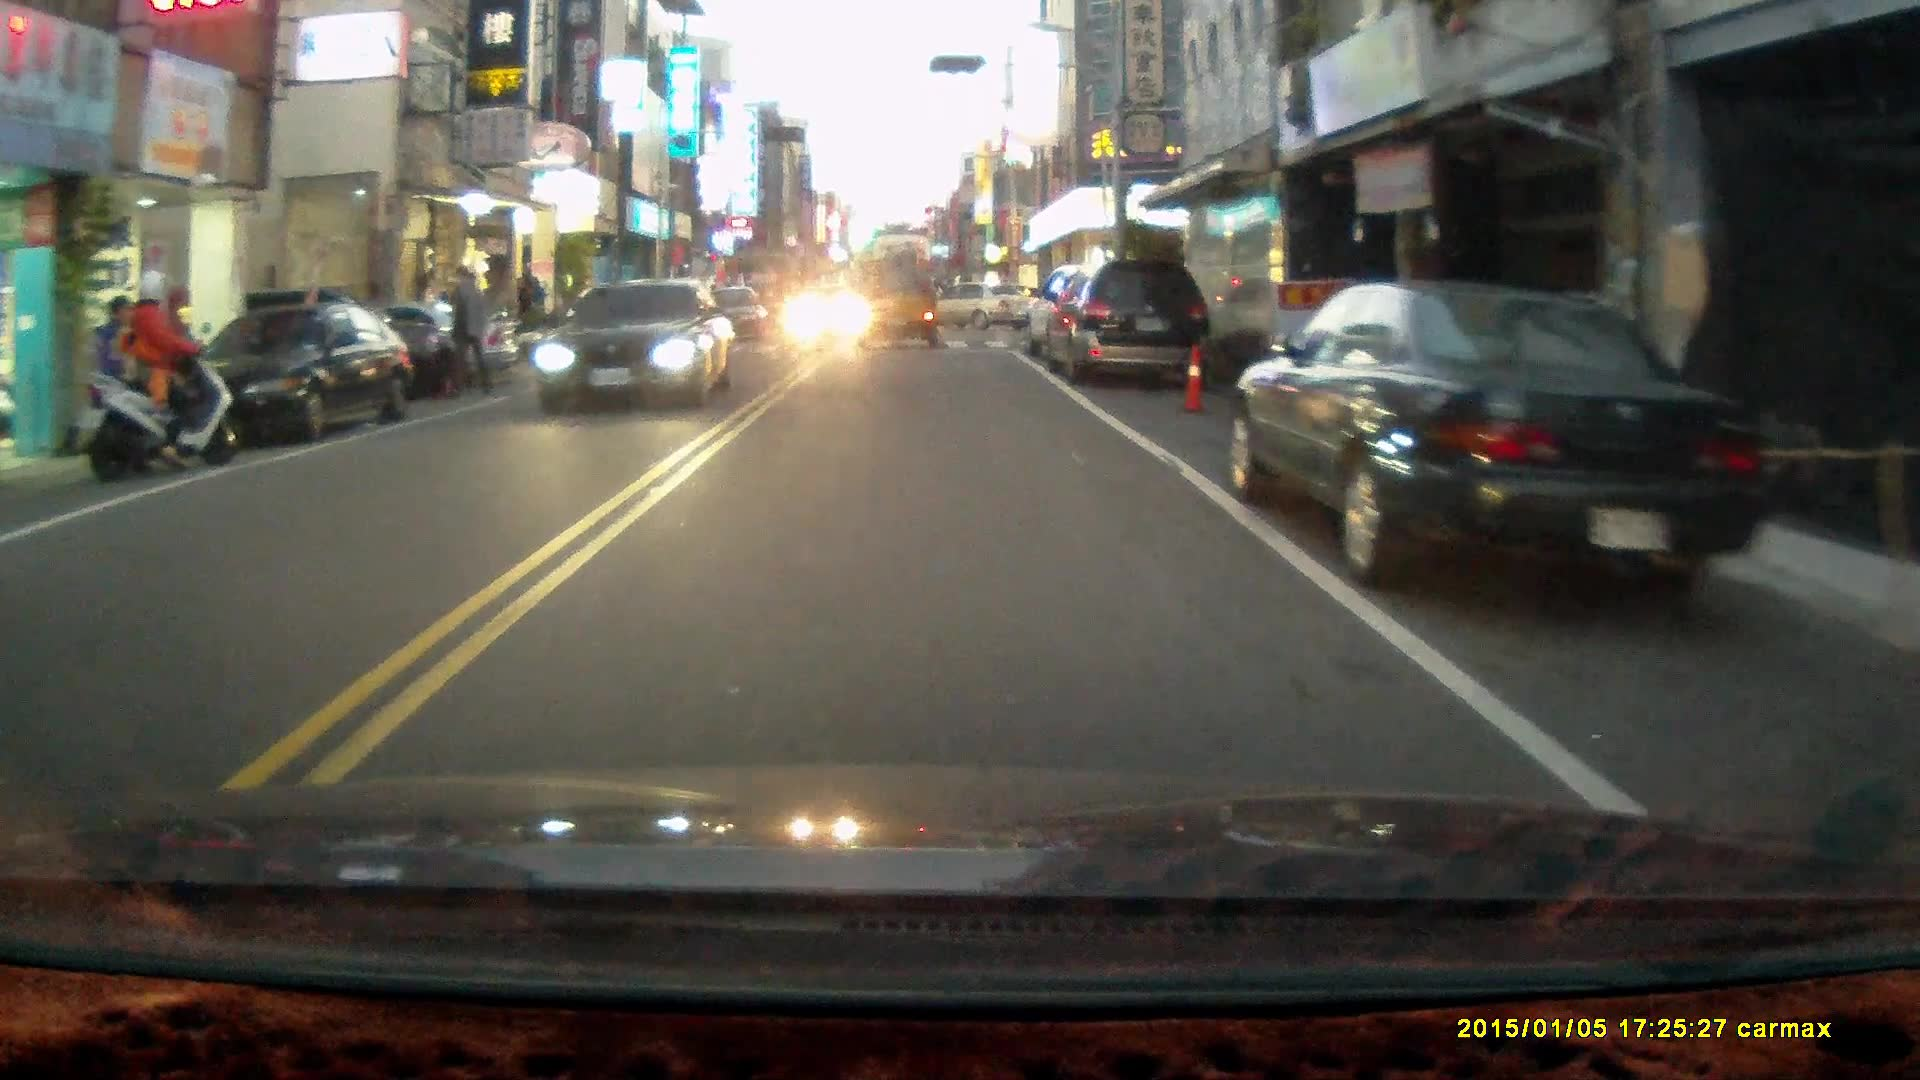pedestrian: (442, 261, 490, 402)
rider: (84, 266, 236, 479)
vehicle: (1227, 279, 1798, 602), (181, 304, 412, 449), (535, 279, 739, 411), (264, 297, 524, 390), (1037, 260, 1214, 386), (859, 261, 943, 353), (907, 278, 1037, 336)
